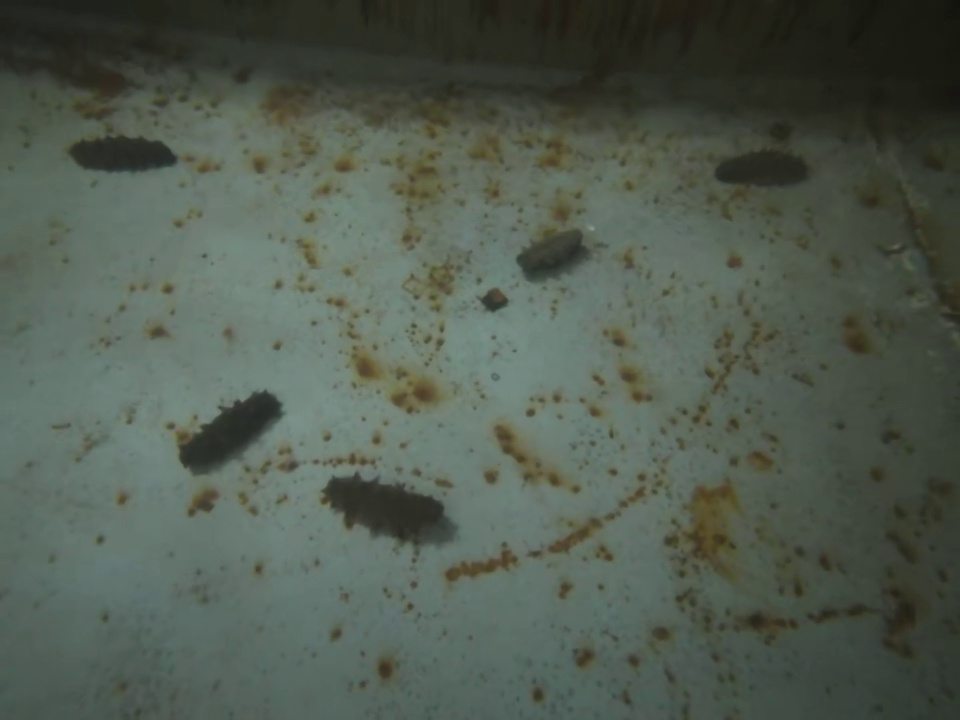seacucumber: (164, 385, 292, 476), (316, 467, 455, 541), (63, 129, 183, 176), (705, 148, 817, 192), (513, 226, 593, 277)
